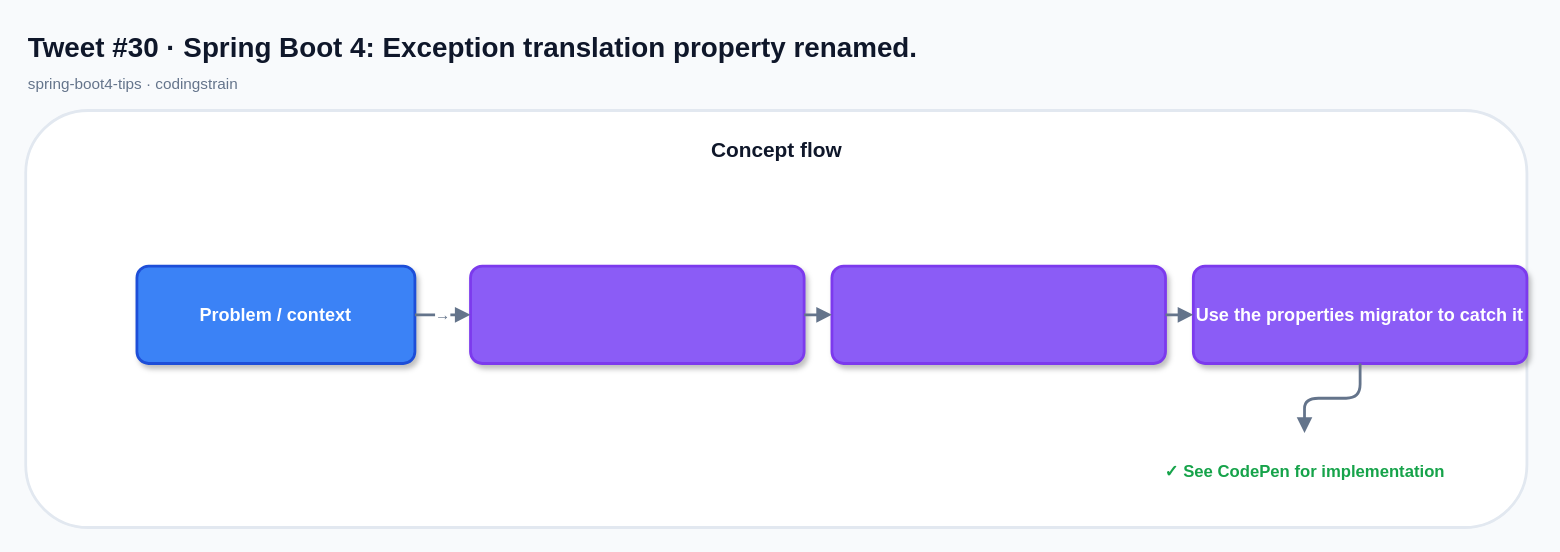
Some shapes in this 1560 by 552 pixel diagram are drawn without their labels. Here are the shapes that lost their labels. From the top down, the centre of each, then its label:
pixel 638 316: `spring.dao.exceptiontranslation.enabled` →
pixel 999 316: `spring.persistence.exceptiontranslation.enabled`
